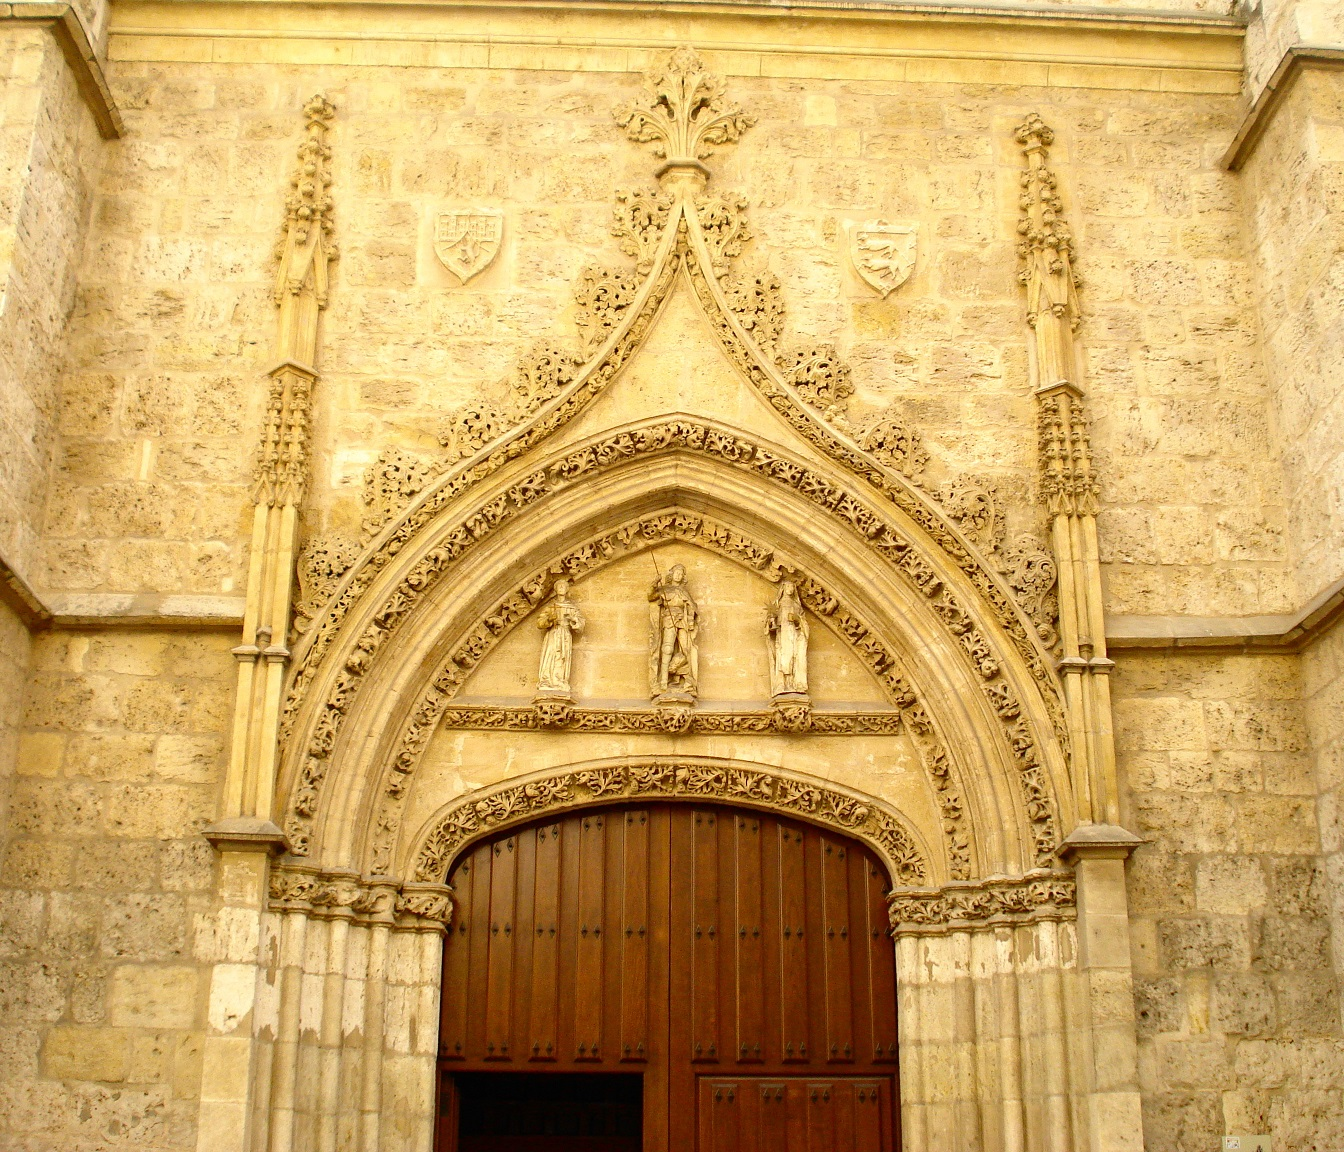arco-apuntado: (350, 474, 987, 878)
arco-conopial: (357, 179, 1006, 555)
